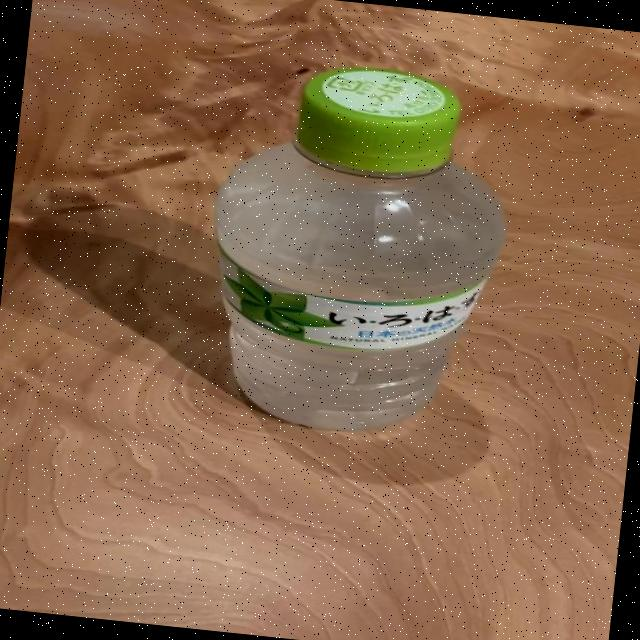bottle: (187, 51, 518, 448)
cap: (284, 56, 472, 192)
label: (200, 252, 490, 361)
